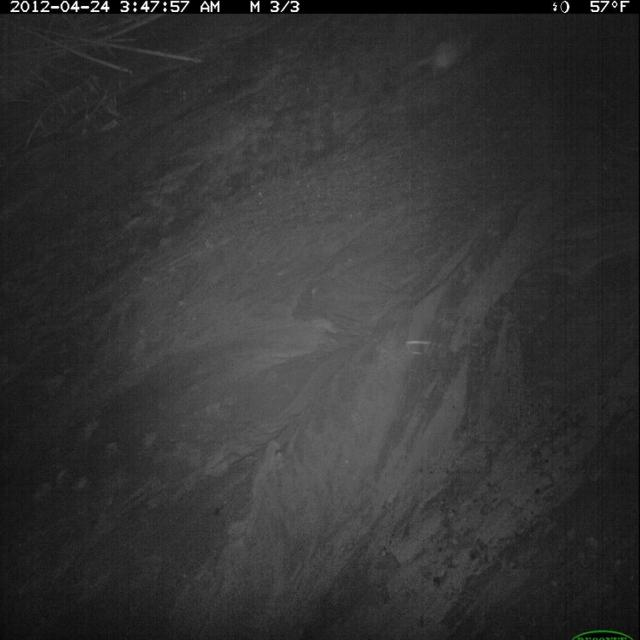opossum: (390, 26, 481, 82)
